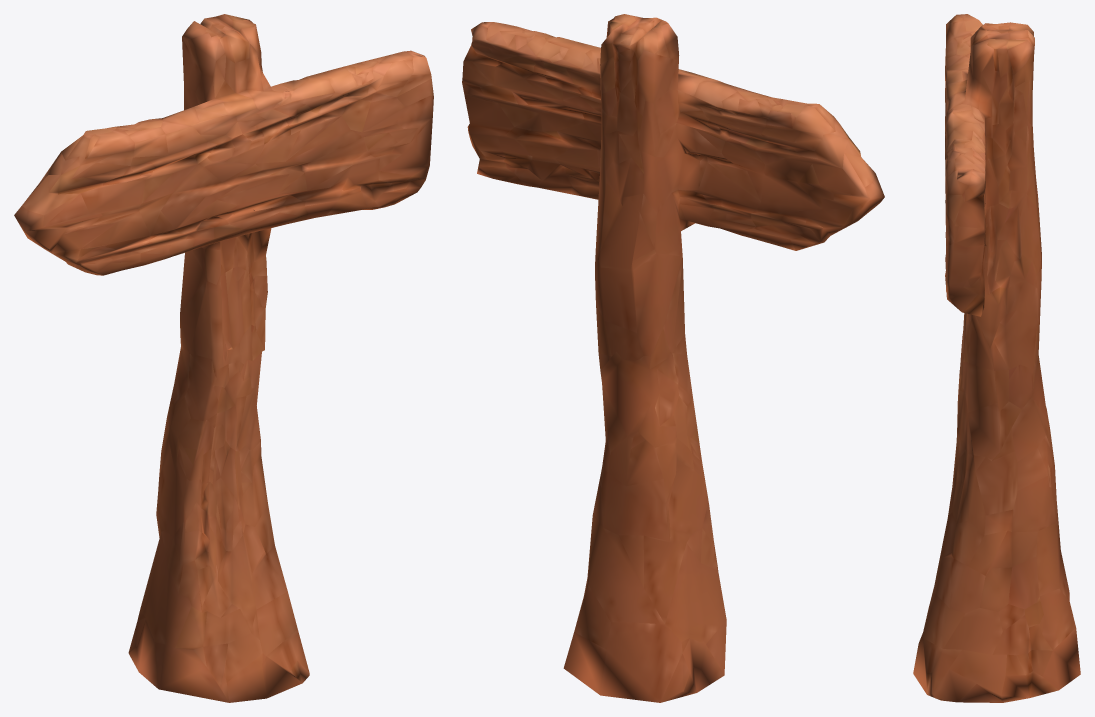
File: signpost.glb
3 views of the same model, side by side, from view 1: azimuth 30°, elevation 25°; view 2: azimuth 150°, elevation 25°; view 3: azimuth 270°, elevation 25° (orthographic).
Bounding box in the file's own units: 1.27 × 1.91 × 0.4525.
1 material, 1 textured.
